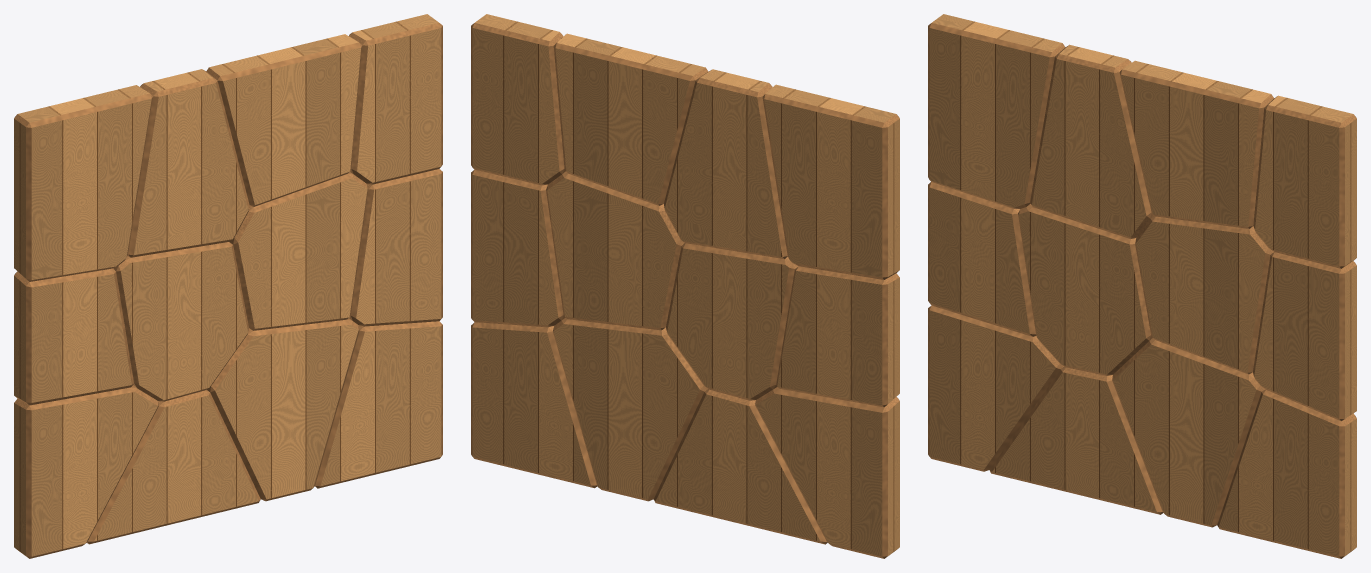
The model's file is Kit_Wood_Wall_Fractured.glb.
3 views of the same model, side by side, from view 1: azimuth 30°, elevation 25°; view 2: azimuth 150°, elevation 25°; view 3: azimuth 330°, elevation 25° (orthographic).
Visible parts, largest first — view 1: Kit_Wood_Wall_frag_03, Kit_Wood_Wall_frag_09, Kit_Wood_Wall_frag_07, Kit_Wood_Wall_frag_01, Kit_Wood_Wall_frag_06, Kit_Wood_Wall_frag_05, Kit_Wood_Wall_frag_08, Kit_Wood_Wall_frag_10, Kit_Wood_Wall_frag_04, Kit_Wood_Wall_frag_02, Kit_Wood_Wall_frag_12, Kit_Wood_Wall_frag_11; view 2: Kit_Wood_Wall_frag_03, Kit_Wood_Wall_frag_07, Kit_Wood_Wall_frag_09, Kit_Wood_Wall_frag_06, Kit_Wood_Wall_frag_01, Kit_Wood_Wall_frag_08, Kit_Wood_Wall_frag_05, Kit_Wood_Wall_frag_10, Kit_Wood_Wall_frag_02, Kit_Wood_Wall_frag_04, Kit_Wood_Wall_frag_12, Kit_Wood_Wall_frag_11; view 3: Kit_Wood_Wall_frag_03, Kit_Wood_Wall_frag_09, Kit_Wood_Wall_frag_07, Kit_Wood_Wall_frag_10, Kit_Wood_Wall_frag_06, Kit_Wood_Wall_frag_05, Kit_Wood_Wall_frag_08, Kit_Wood_Wall_frag_01, Kit_Wood_Wall_frag_12, Kit_Wood_Wall_frag_04, Kit_Wood_Wall_frag_11, Kit_Wood_Wall_frag_02.
Boxes of the visible parts, bbox=[...] form: Kit_Wood_Wall_frag_03: bbox=[14, 85, 152, 281]; Kit_Wood_Wall_frag_09: bbox=[206, 34, 362, 206]; Kit_Wood_Wall_frag_07: bbox=[206, 318, 359, 501]; Kit_Wood_Wall_frag_01: bbox=[14, 385, 158, 558]; Kit_Wood_Wall_frag_06: bbox=[127, 69, 249, 257]; Kit_Wood_Wall_frag_05: bbox=[113, 242, 248, 401]; Kit_Wood_Wall_frag_08: bbox=[229, 172, 368, 330]; Kit_Wood_Wall_frag_10: bbox=[315, 321, 442, 488]; Kit_Wood_Wall_frag_04: bbox=[87, 389, 260, 544]; Kit_Wood_Wall_frag_02: bbox=[14, 268, 133, 405]; Kit_Wood_Wall_frag_12: bbox=[349, 14, 442, 184]; Kit_Wood_Wall_frag_11: bbox=[349, 169, 442, 326]; Kit_Wood_Wall_frag_03: bbox=[762, 84, 899, 279]; Kit_Wood_Wall_frag_07: bbox=[553, 317, 707, 501]; Kit_Wood_Wall_frag_09: bbox=[553, 33, 708, 205]; Kit_Wood_Wall_frag_06: bbox=[664, 69, 787, 258]; Kit_Wood_Wall_frag_01: bbox=[755, 387, 899, 558]; Kit_Wood_Wall_frag_08: bbox=[546, 171, 684, 330]; Kit_Wood_Wall_frag_05: bbox=[666, 243, 798, 400]; Kit_Wood_Wall_frag_10: bbox=[471, 322, 597, 488]; Kit_Wood_Wall_frag_02: bbox=[776, 266, 899, 407]; Kit_Wood_Wall_frag_04: bbox=[653, 389, 827, 544]; Kit_Wood_Wall_frag_12: bbox=[471, 14, 565, 185]; Kit_Wood_Wall_frag_11: bbox=[471, 169, 565, 327]; Kit_Wood_Wall_frag_03: bbox=[928, 14, 1065, 208]; Kit_Wood_Wall_frag_09: bbox=[1119, 60, 1273, 228]; Kit_Wood_Wall_frag_07: bbox=[1112, 338, 1265, 527]; Kit_Wood_Wall_frag_10: bbox=[1217, 389, 1356, 558]; Kit_Wood_Wall_frag_06: bbox=[1030, 44, 1154, 238]; Kit_Wood_Wall_frag_05: bbox=[1018, 204, 1152, 375]; Kit_Wood_Wall_frag_08: bbox=[1135, 215, 1273, 374]; Kit_Wood_Wall_frag_01: bbox=[928, 305, 1063, 471]; Kit_Wood_Wall_frag_12: bbox=[1253, 95, 1356, 268]; Kit_Wood_Wall_frag_04: bbox=[989, 366, 1162, 514]; Kit_Wood_Wall_frag_11: bbox=[1253, 252, 1356, 421]; Kit_Wood_Wall_frag_02: bbox=[928, 182, 1036, 336].
Size of what is drawn, in the model's own units: 3 by 3 by 0.2.
Materials: 2 (2 with a texture image).
